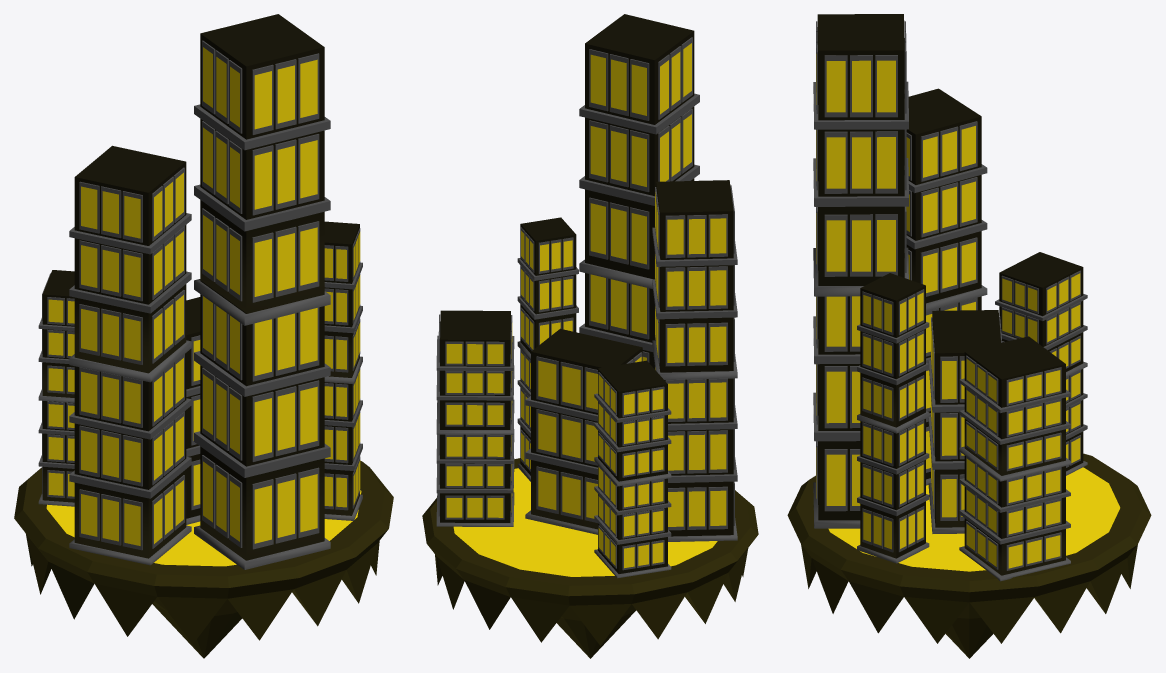
Rendered from YHubPlatform.fbx.
The picture shows the model from 3 angles, left to right: view 1: azimuth 30°, elevation 25°; view 2: azimuth 150°, elevation 25°; view 3: azimuth 270°, elevation 25°; orthographic projection. The views are drawn at different scales.
Parts seen in each view (by area): view 1: Cube.001, Cube.004, Circle, Cube, Cube.003, Cube.006; view 2: Cube.001, Cube.004, Circle, Cube.002, Cube.003, Cube.006, Cube; view 3: Cube.001, Circle, Cube.002, Cube, Cube.004, Cube.003, Cube.006.
Part boxes in pixels (bbox=[...]): Cube.001: bbox=[194, 14, 330, 569]; Cube.004: bbox=[69, 145, 191, 565]; Circle: bbox=[14, 460, 393, 658]; Cube: bbox=[324, 221, 362, 520]; Cube.003: bbox=[38, 270, 74, 506]; Cube.006: bbox=[186, 297, 200, 524]; Cube.001: bbox=[579, 14, 699, 368]; Cube.004: bbox=[652, 180, 737, 541]; Circle: bbox=[422, 458, 758, 658]; Cube.002: bbox=[436, 310, 514, 526]; Cube.003: bbox=[594, 360, 671, 578]; Cube.006: bbox=[525, 328, 642, 534]; Cube: bbox=[517, 217, 578, 481]; Cube.001: bbox=[813, 14, 908, 528]; Circle: bbox=[787, 453, 1151, 658]; Cube.002: bbox=[959, 336, 1070, 581]; Cube: bbox=[857, 273, 929, 563]; Cube.004: bbox=[906, 88, 987, 485]; Cube.003: bbox=[995, 252, 1087, 475]; Cube.006: bbox=[928, 310, 1002, 533].
Size of the model in its own units: 1523 by 2895 by 1523.
